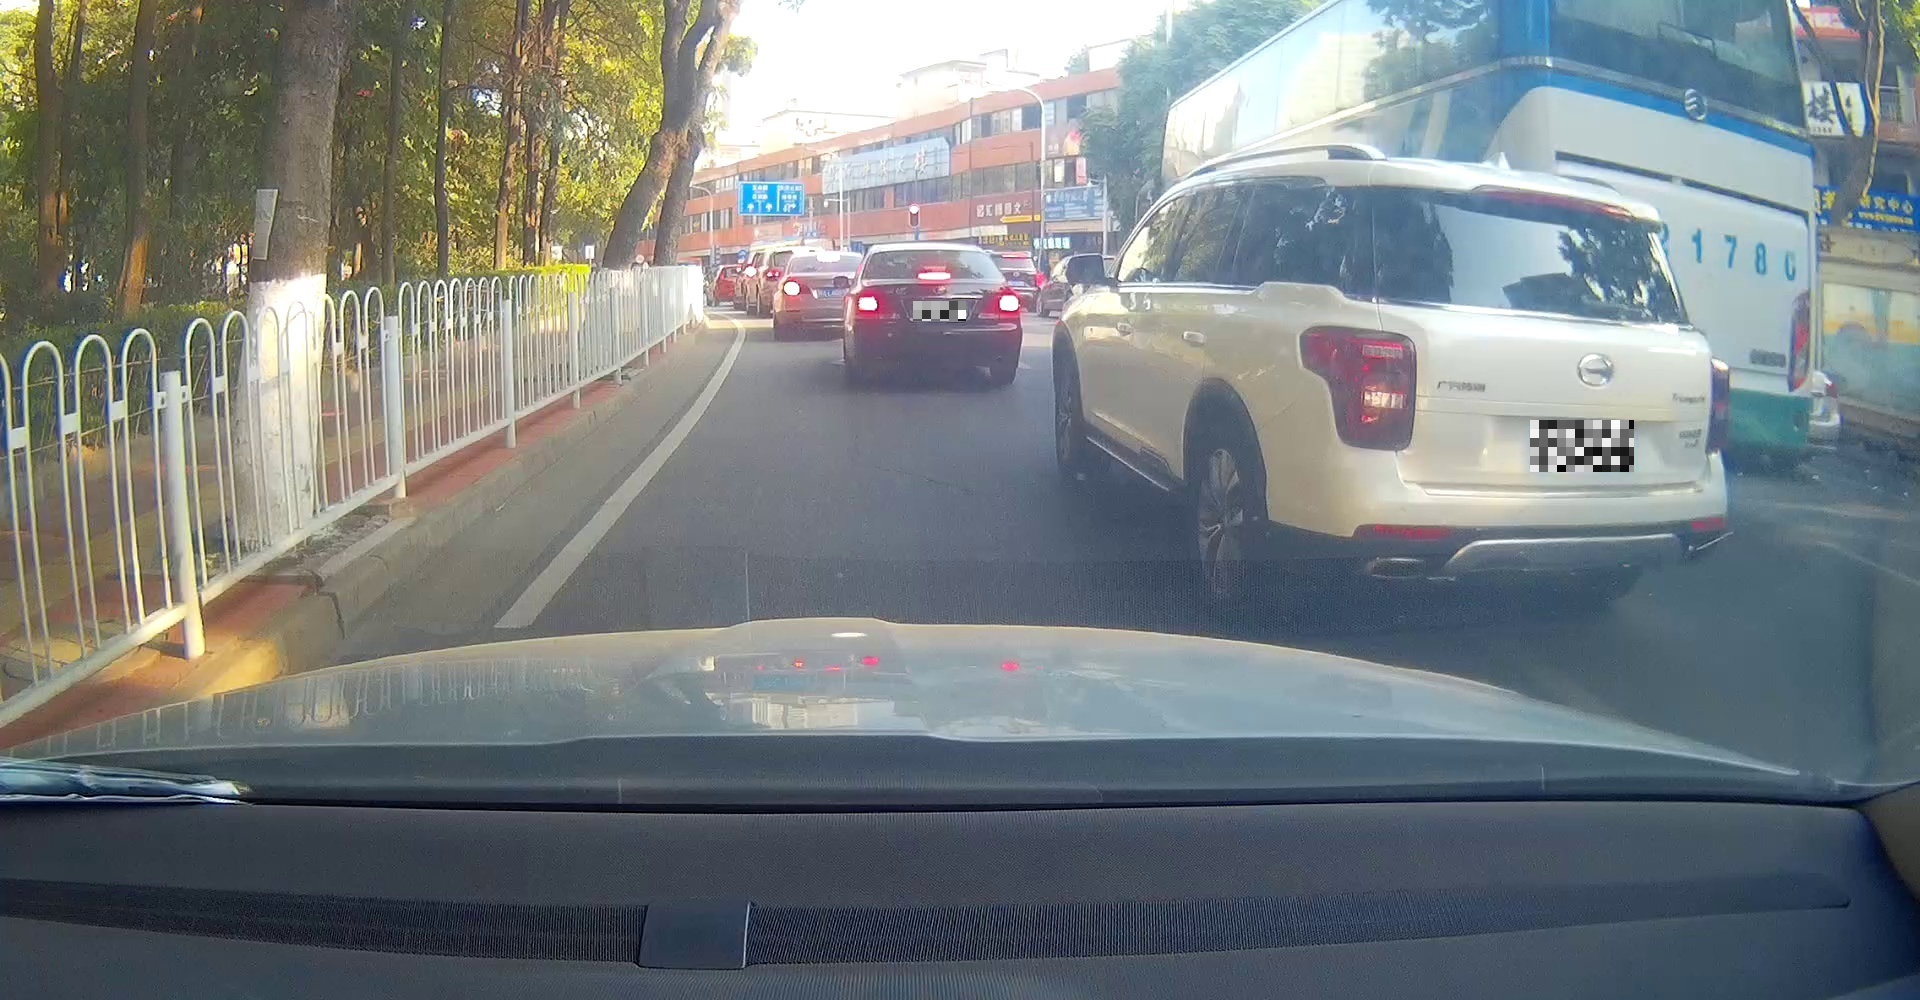L_light: (1297, 321, 1420, 454), (855, 292, 883, 313)
R_light: (1708, 353, 1732, 456), (997, 293, 1020, 313)
T_light: (1470, 183, 1632, 221), (917, 272, 952, 280)
day-brake: (851, 242, 1023, 379)
day-no: (1297, 159, 1733, 609)
plate_1: (913, 301, 966, 321)
plate_2: (1530, 420, 1634, 472)
